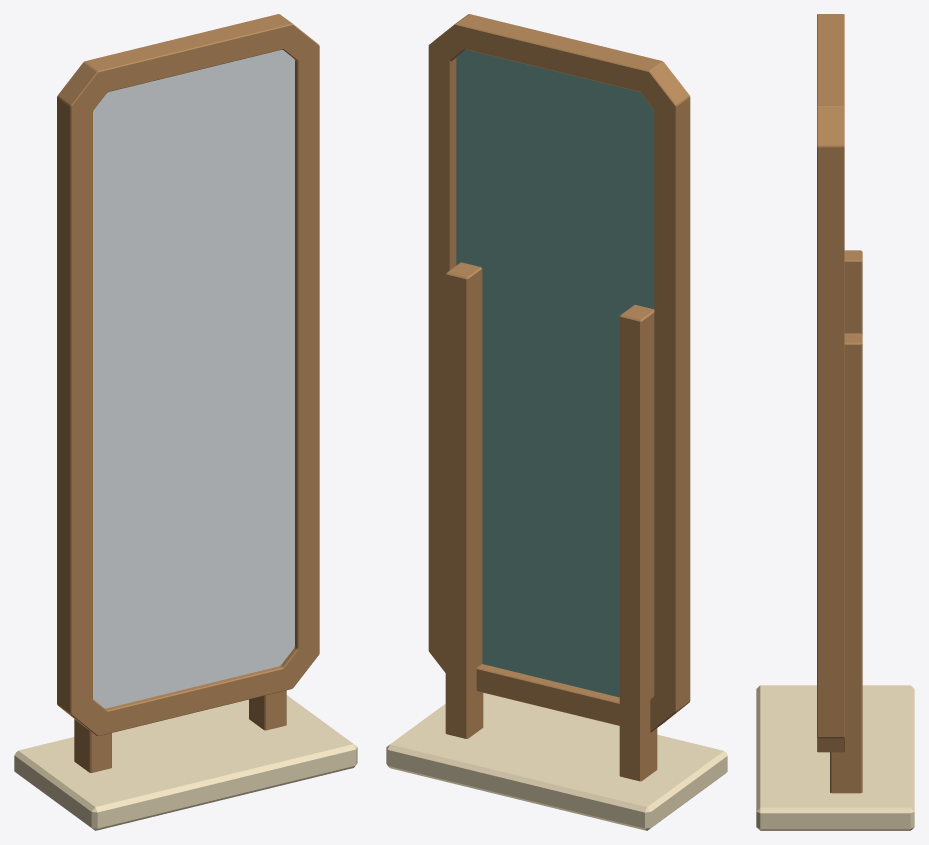
3 views of the same model, side by side, from view 1: azimuth 30°, elevation 25°; view 2: azimuth 150°, elevation 25°; view 3: azimuth 270°, elevation 25° (orthographic). The views are drawn at different scales.
Parts seen in each view (by area): view 1: Mirror_panel, Frame_ring, Floor_base, Fixed_rear_support_L, Fixed_rear_support_R; view 2: Mirror_backing, Frame_ring, Floor_base, Fixed_rear_support_R, Fixed_rear_support_L; view 3: Frame_ring, Floor_base, Fixed_rear_support_R, Fixed_rear_support_L.
Part boxes in pixels (box(x1,y1,x2,y2)): Mirror_panel: box(93, 50, 294, 708); Frame_ring: box(57, 14, 319, 736); Floor_base: box(14, 695, 357, 830); Fixed_rear_support_L: box(74, 719, 111, 772); Fixed_rear_support_R: box(249, 690, 286, 730); Mirror_backing: box(456, 49, 654, 697); Frame_ring: box(428, 14, 690, 732); Floor_base: box(386, 693, 727, 830); Fixed_rear_support_R: box(445, 262, 483, 738); Fixed_rear_support_L: box(619, 304, 657, 781); Frame_ring: box(817, 14, 844, 752); Floor_base: box(756, 685, 914, 830); Fixed_rear_support_R: box(830, 333, 862, 793); Fixed_rear_support_L: box(844, 250, 862, 333).
Size of the model in its own units: 0.64 by 1.68 by 0.34.
